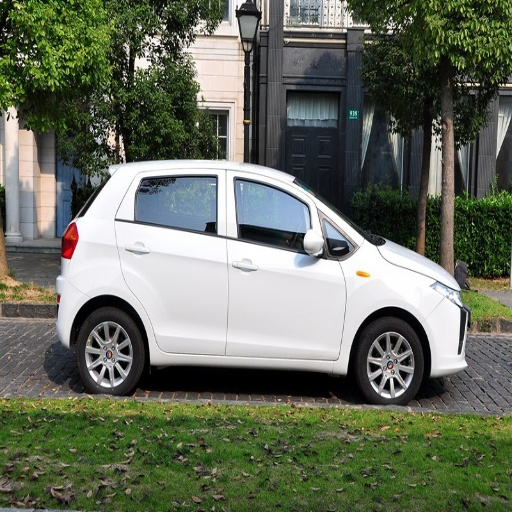back_right_door: (118, 169, 226, 352)
front_right_door: (226, 170, 352, 360)
